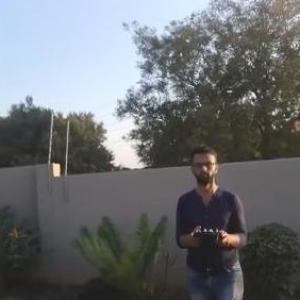follow: (169, 137, 253, 299)
